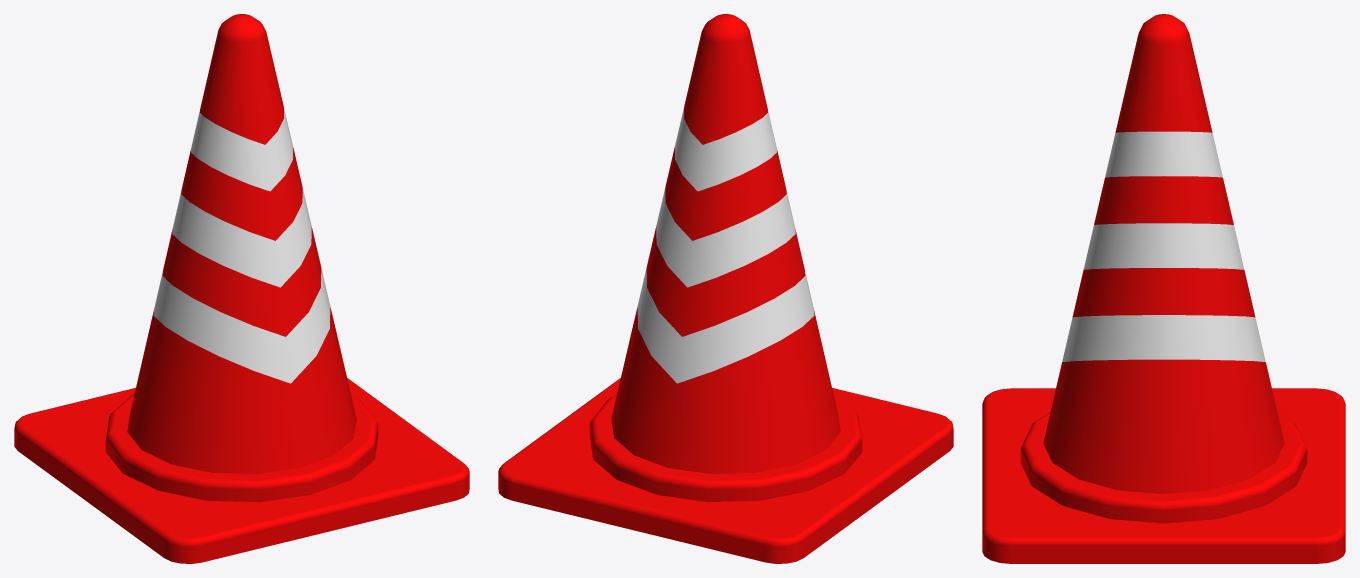
Rendered from TrafficCone_Low.fbx.
3 renders of one model, left to right at view 1: azimuth 30°, elevation 25°; view 2: azimuth 150°, elevation 25°; view 3: azimuth 270°, elevation 25°, orthographic. The views are drawn at different scales.
Visible parts, largest first — view 1: Low_TrafficCone; view 2: Low_TrafficCone; view 3: Low_TrafficCone.
Boxes of the visible parts, x1,y1,x2,y2 form: Low_TrafficCone: (14,14,469,563); Low_TrafficCone: (498,14,953,563); Low_TrafficCone: (982,14,1345,563).
Bounding box in the file's own units: 4 × 5.71 × 4.
